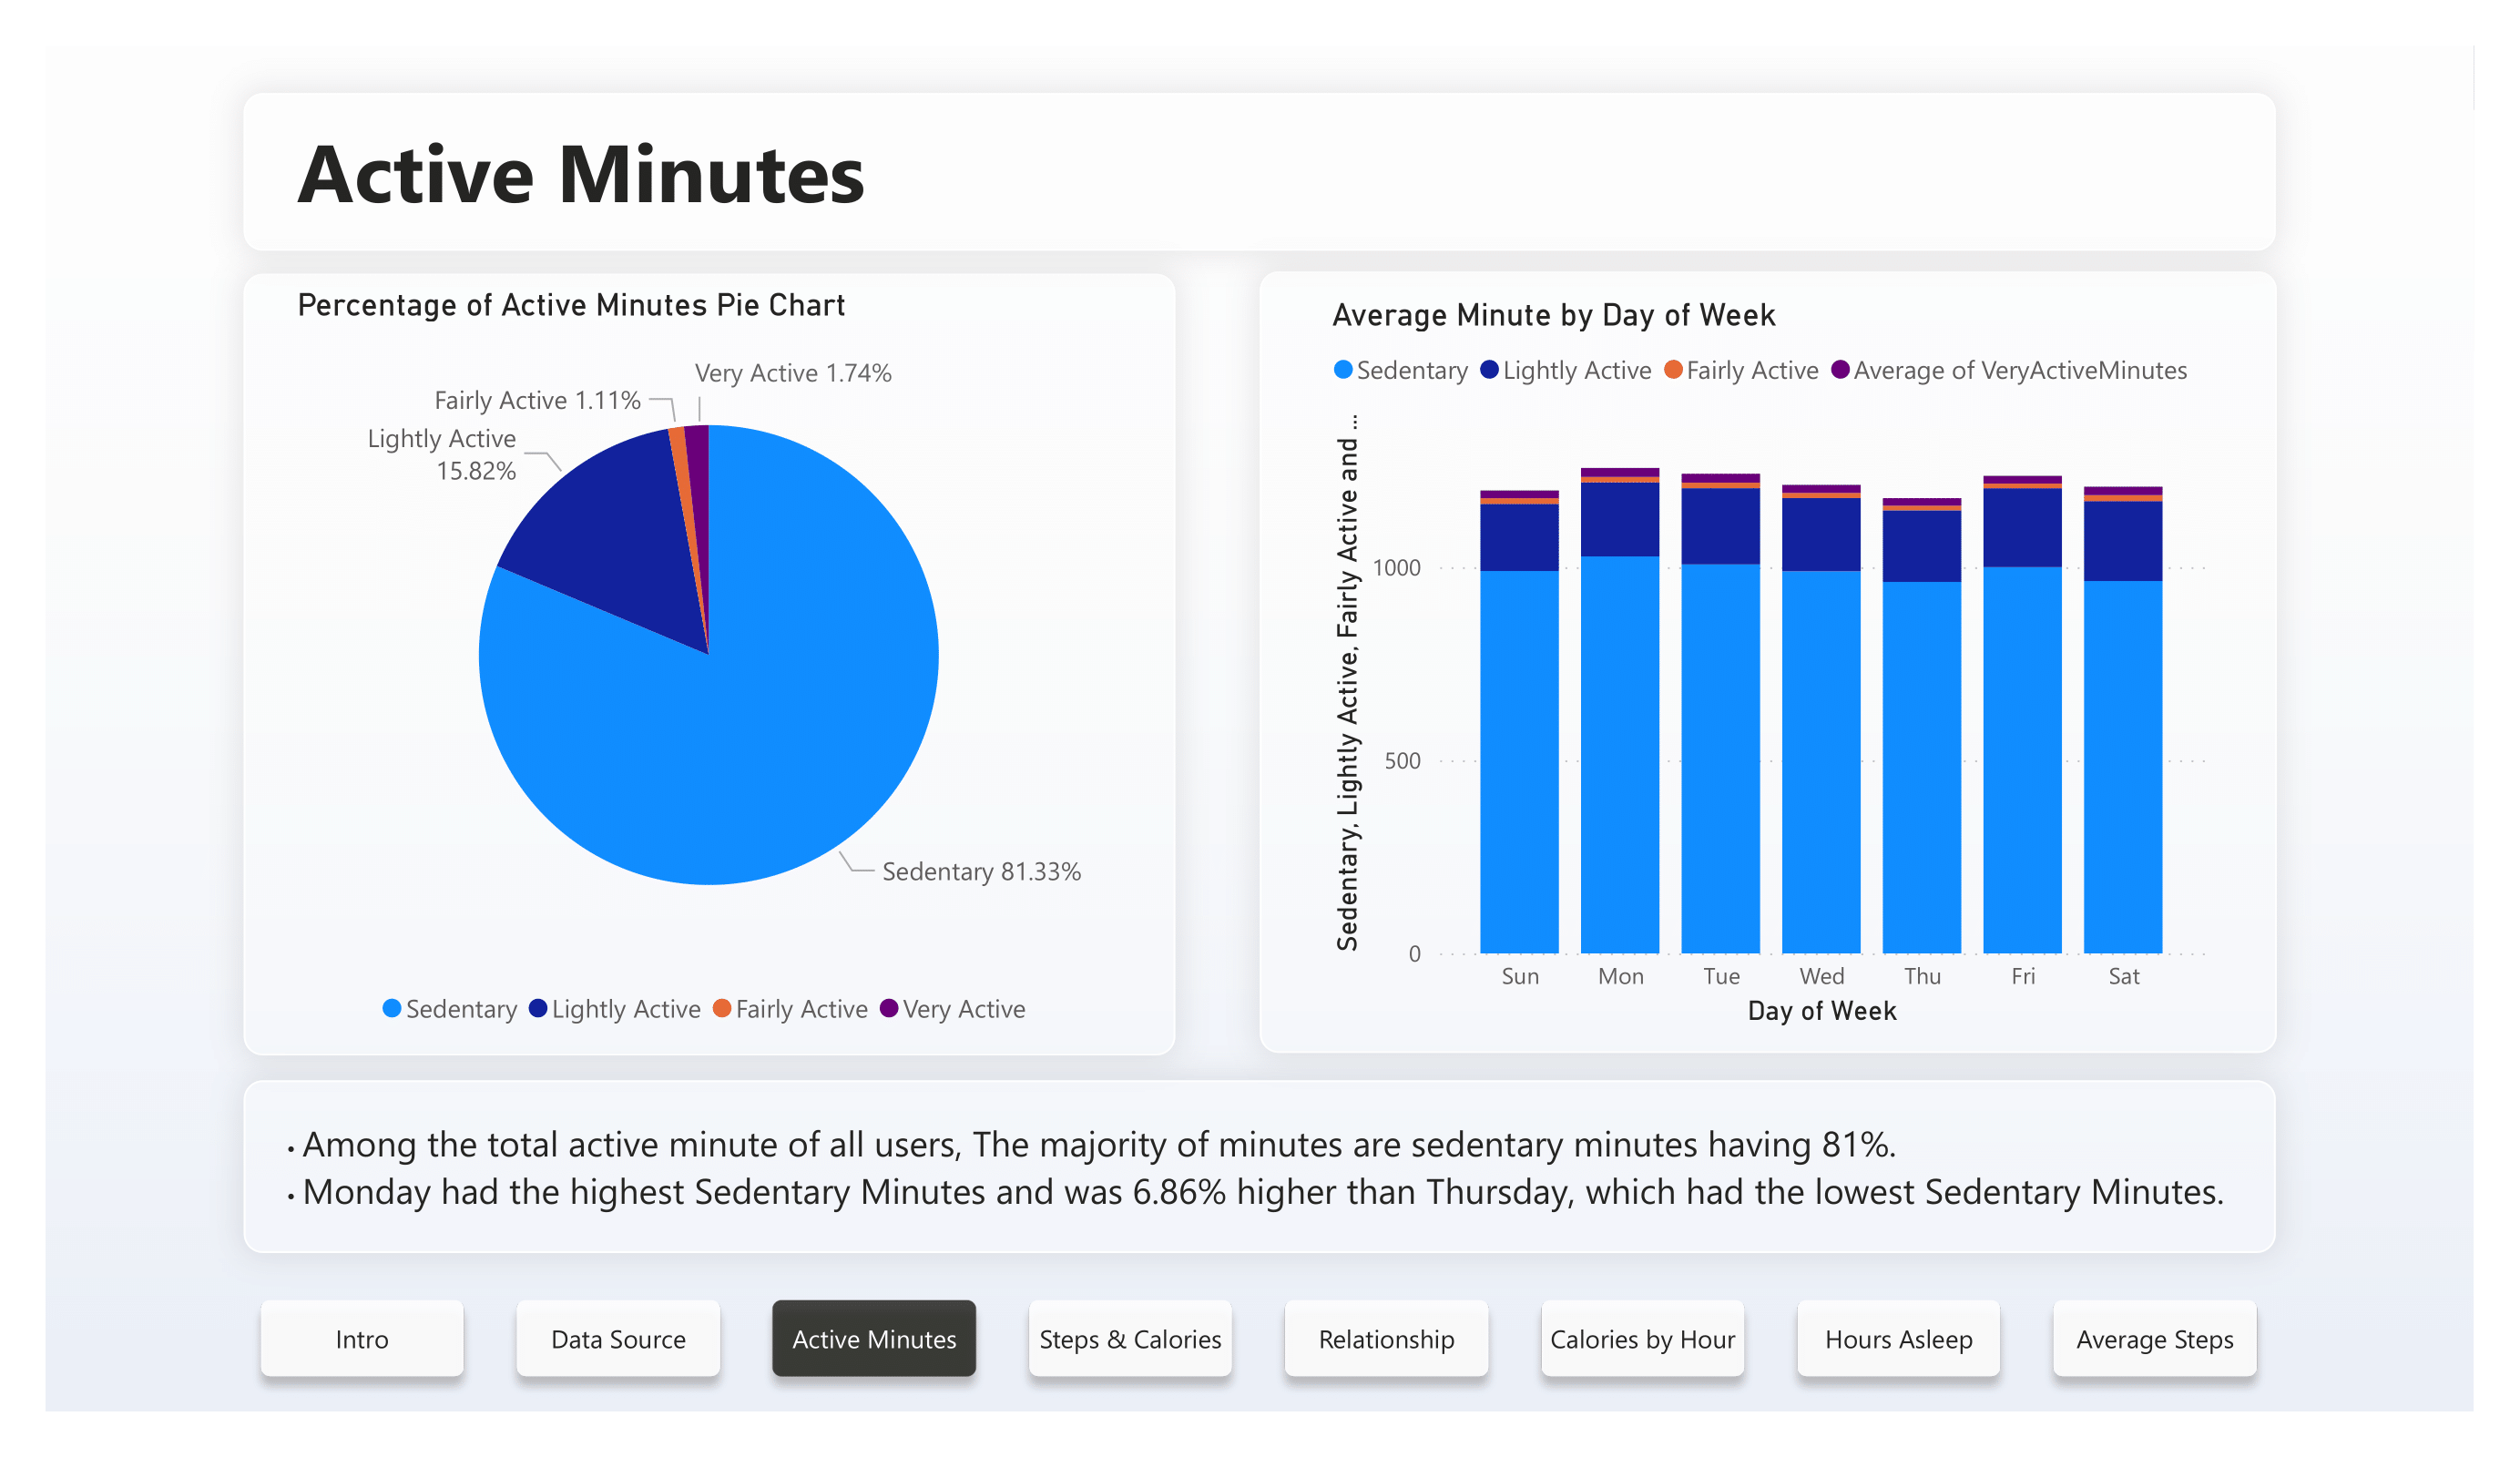

What the dashboard file says about the page in this screenshot:
{"tool":"powerbi","page":{"name":"Active Minutes","canvas":[1280,720],"ordinal":2},"visuals":[{"type":"shape","box":[640,119.3,535.7,412.1],"z":0},{"type":"shape","box":[104.3,120,490.7,412.1],"z":1000},{"type":"shape","box":[104.3,25,1071.4,82.9],"z":2000},{"type":"pieChart","title":"Percentage of Active Minutes Pie Chart","fields":{"Y":["Sum(dailyActivity_merged.SedentaryMinutes)","Sum(dailyActivity_merged.LightlyActiveMinutes)","Sum(dailyActivity_merged.FairlyActiveMinutes)","Sum(dailyActivity_merged.VeryActiveMinutes)"]},"box":[127.9,126.4,443.6,400],"z":3000},{"type":"pageNavigator","box":[104.3,652.9,1071.4,58.6],"z":4000},{"type":"textbox","box":[127.9,31.4,800,69.3],"z":5000},{"type":"textbox","box":[337.5,158.3,122.5,26.7],"z":6000},{"type":"shape","box":[315,185,60,13.3],"z":7000},{"type":"columnChart","title":"Average Minute by Day of Week","fields":{"Y":["Avg(dailyActivity_merged.SedentaryMinutes)","Avg(dailyActivity_merged.LightlyActiveMinutes)","Avg(dailyActivity_merged.FairlyActiveMinutes)","Avg(dailyActivity_merged.VeryActiveMinutes)"],"Category":["Date.Day of Week"]},"box":[672.9,131.4,470,390],"z":8000},{"type":"shape","box":[104.3,545.7,1071.4,91.4],"z":9000},{"type":"textbox","box":[112.1,560.7,1055,61.4],"z":10000}]}

Visuals, with their boxes in screenshot pixels (x1, y1, x2, y2):
shape: <region>1260, 272, 2277, 1054</region>
shape: <region>243, 273, 1175, 1055</region>
shape: <region>243, 93, 2277, 250</region>
"Percentage of Active Minutes Pie Chart" pieChart: <region>288, 285, 1130, 1044</region>
pageNavigator: <region>243, 1284, 2277, 1395</region>
textbox: <region>288, 105, 1806, 237</region>
textbox: <region>686, 346, 918, 396</region>
shape: <region>643, 396, 757, 422</region>
"Average Minute by Day of Week" columnChart: <region>1322, 295, 2214, 1034</region>
shape: <region>243, 1081, 2277, 1254</region>
textbox: <region>259, 1109, 2260, 1226</region>
